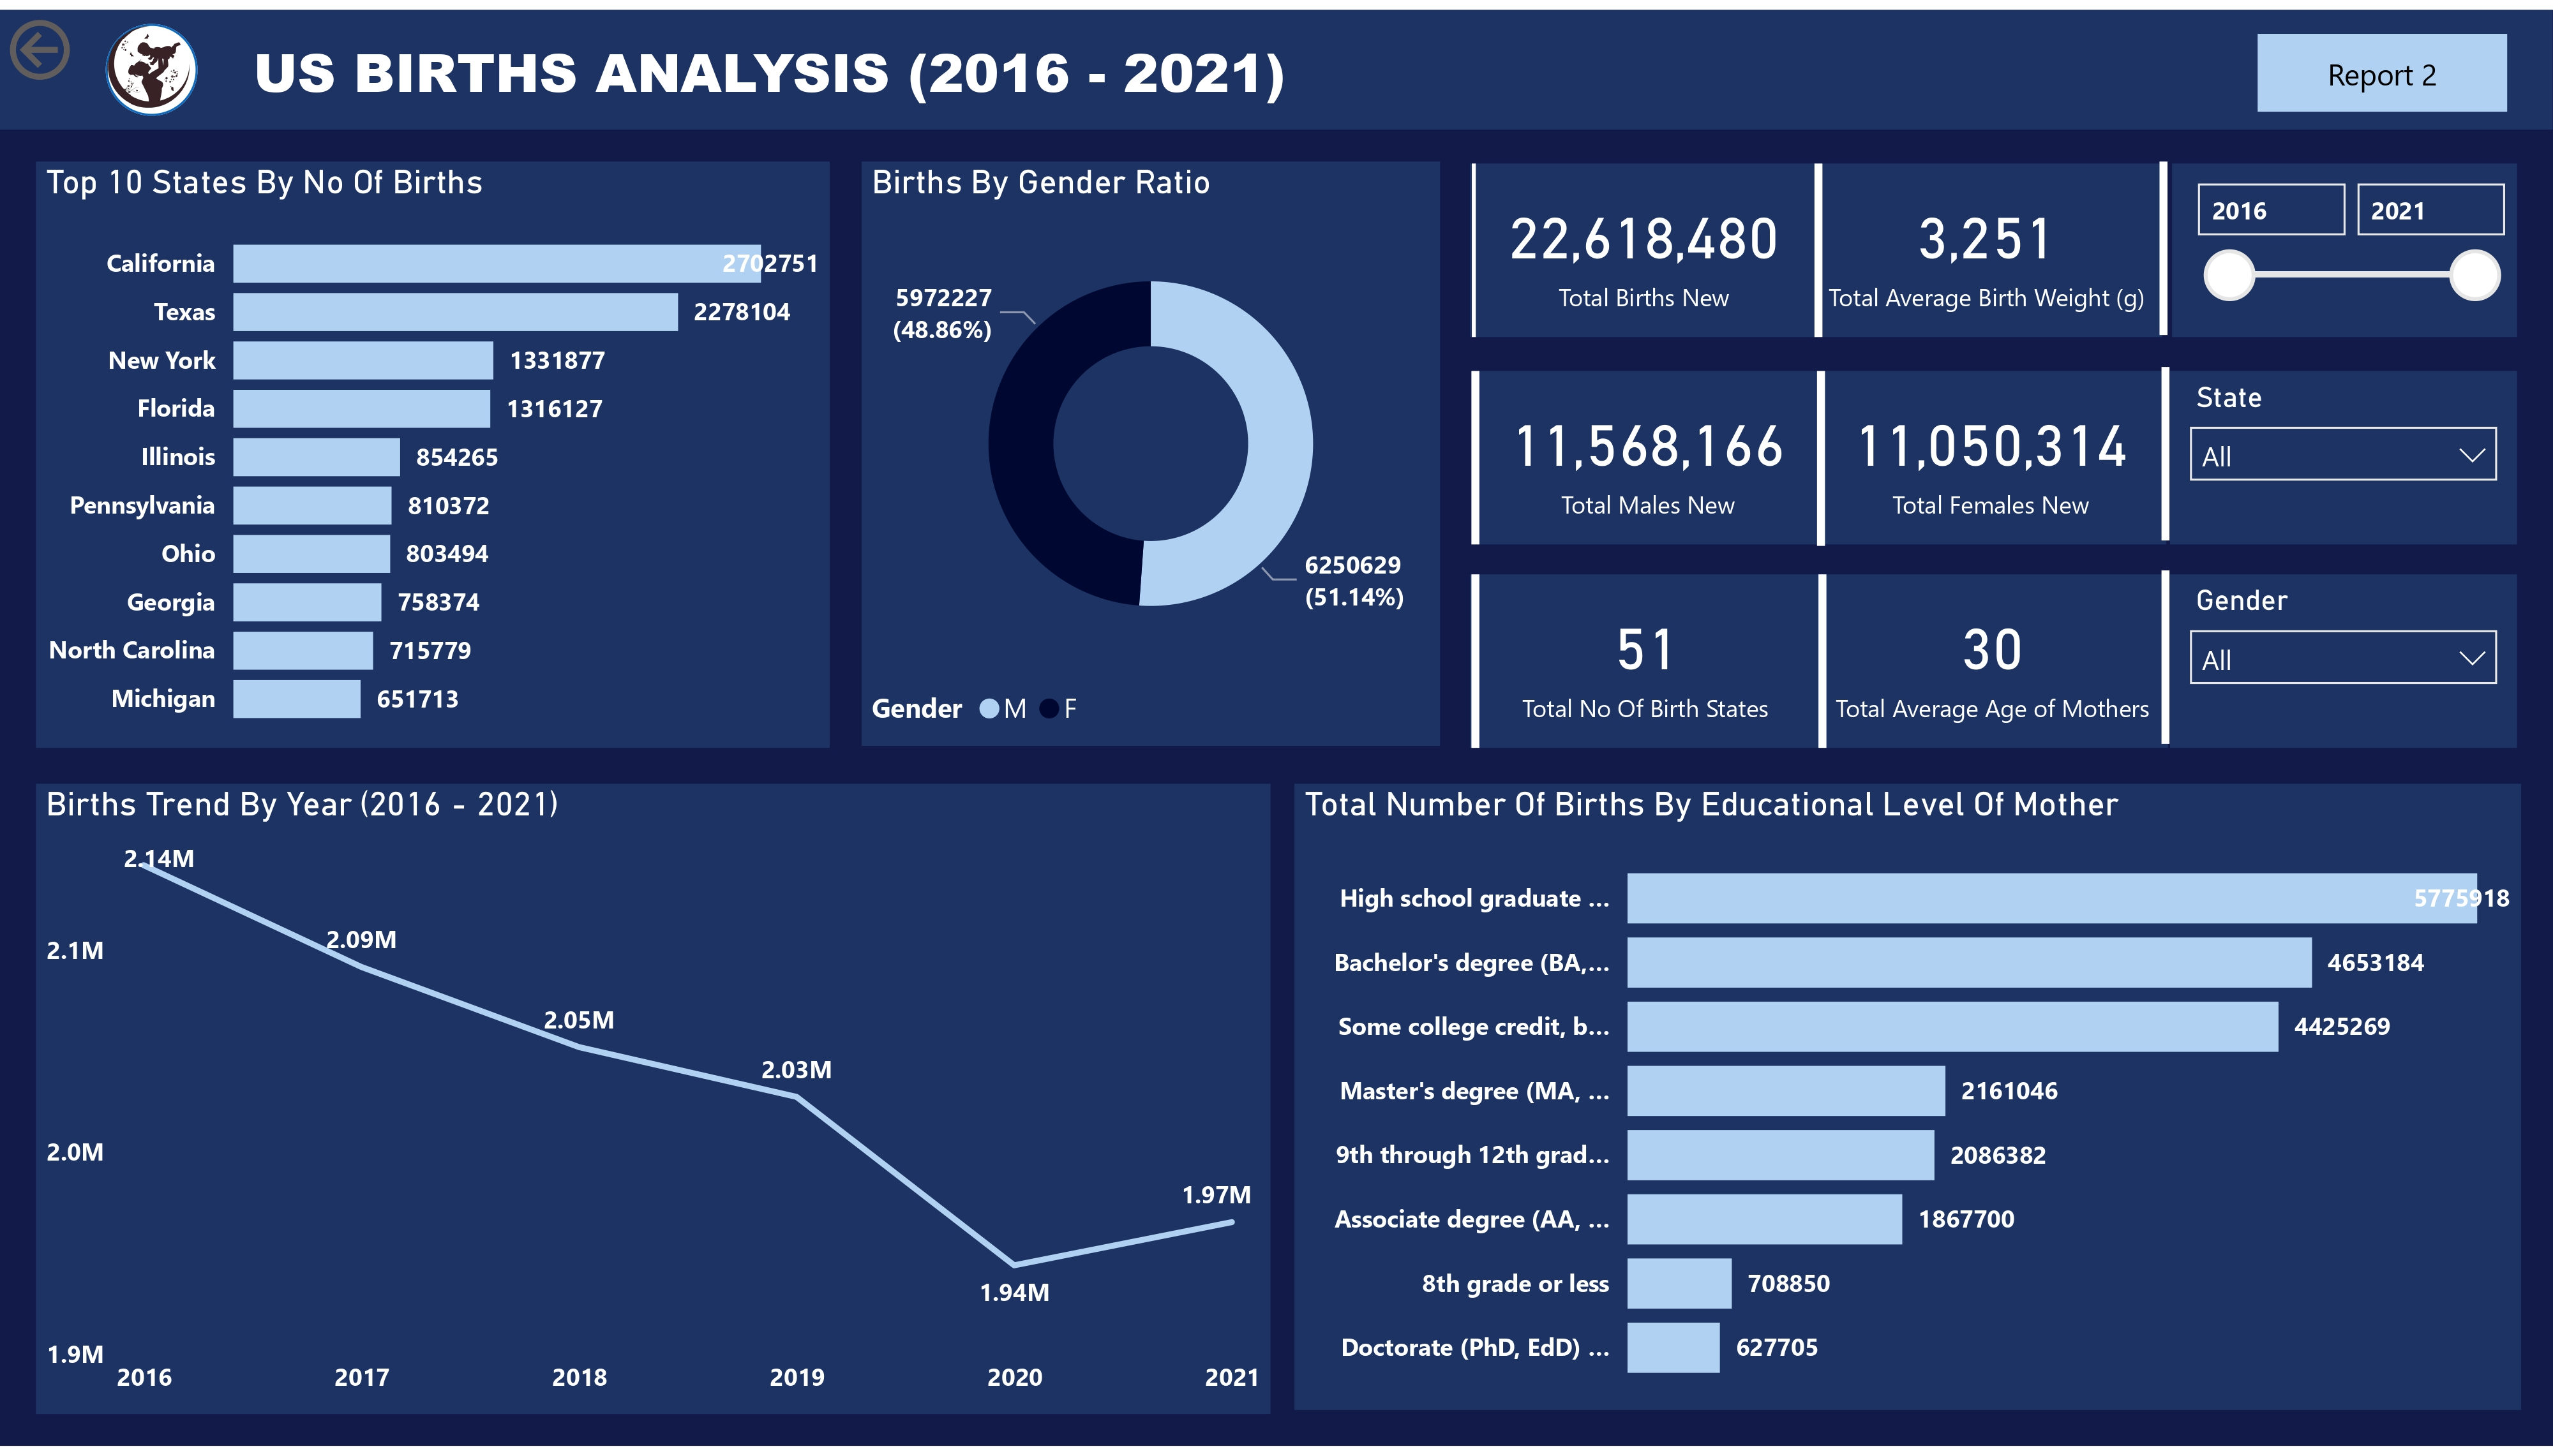

This screenshot's page, from the dashboard's own definition file:
{"tool":"powerbi","page":{"name":"REPORT 1","canvas":[1280,720],"ordinal":0},"visuals":[{"type":"shape","box":[0,0,1279.8,60],"z":0},{"type":"textbox","box":[121.7,6.6,587.4,51],"z":1000},{"type":"card","fields":{"Values":["DAX.Total Births New"]},"box":[737.1,77.3,174.4,87.2],"z":2000},{"type":"card","fields":{"Values":["DAX.Total Average Birth Weight"]},"box":[908.2,77.3,176,87.2],"z":3000},{"type":"shape","box":[1064.7,75.6,39.4,87.1],"z":4000},{"type":"slicer","fields":{"Values":["us_births_2016_2021.Year"]},"box":[1089.2,77.3,172.8,87.2],"z":5000},{"type":"card","fields":{"Values":["DAX.Total Females New"]},"box":[909.8,181,176,87.2],"z":6000},{"type":"barChart","title":"Top 10 States By No Of Births","fields":{"Category":["us_births_2016_2021.State"],"Y":["DAX.Total No Of Births"]},"box":[18.1,75.6,397.6,294.1],"z":7000},{"type":"donutChart","title":"Births By Gender Ratio","fields":{"Category":["us_births_2016_2021.Gender"],"Y":["Sum(us_births_2016_2021.Number of Births)"]},"box":[431.6,75.8,289.9,293.2],"z":8000},{"type":"lineChart","title":"Births Trend By Year (2016 - 2021)","fields":{"Category":["us_births_2016_2021.Year"],"Y":["DAX.Total No Of Births"]},"box":[18.1,388.3,618.6,315.9],"z":9000},{"type":"actionButton","box":[0,0,100,40],"z":10000},{"type":"barChart","title":"Total Number Of Births By Educational Level Of Mother","fields":{"Y":["DAX.Total No Of Births"],"Category":["us_births_2016_2021.Education Level of Mother"]},"box":[649,387.8,614.5,313.8],"z":11000},{"type":"card","fields":{"Values":["DAX.Total Males New"]},"box":[738.7,181,174.4,87.2],"z":12000},{"type":"slicer","fields":{"Values":["us_births_2016_2021.State"]},"box":[1087.5,181,174.4,87.2],"z":13000},{"type":"shape","box":[734.5,77.2,9.9,87.1],"z":14000},{"type":"shape","box":[892.9,180.6,40,87.7],"z":15000},{"type":"shape","box":[719.7,180.7,39.4,87.1],"z":16000},{"type":"shape","box":[1066.4,179.1,39.4,87.1],"z":17000},{"type":"shape","box":[892.2,77.2,39.4,87.1],"z":18000},{"type":"card","fields":{"Values":["DAX.Total Average Age of Mothers"]},"box":[911.5,283,176,87.2],"z":19000},{"type":"card","fields":{"Values":["DAX.Total No Of Birth States"]},"box":[737.1,283,176,87.2],"z":20000},{"type":"shape","box":[1066.4,281,39.4,87.1],"z":21000},{"type":"slicer","fields":{"Values":["us_births_2016_2021.Gender"]},"box":[1087.5,283,174.4,87.2],"z":22000},{"type":"shape","box":[893.9,282.6,39.4,87.1],"z":23000},{"type":"shape","box":[719.7,282.6,39.4,87.1],"z":24000},{"type":"shape","box":[52.6,6.6,46.1,46.1],"z":25000},{"type":"image","box":[49.4,3.3,51,51],"z":26000},{"type":"actionButton","box":[1131.9,11.5,125,39.5],"z":26001}]}

Visuals, with their boxes in screenshot pixels (x1, y1, x2, y2), scaled from the page's 1280x720 canvas onto the 2553x1456 screenshot:
shape: 0:0:2552:121
textbox: 243:13:1414:117
card - DAX.Total Births New: 1470:156:1818:332
card - DAX.Total Average Birth Weight: 1811:156:2162:332
shape: 2123:153:2202:329
slicer - us_births_2016_2021.Year: 2173:156:2517:332
card - DAX.Total Females New: 1815:366:2166:542
"Top 10 States By No Of Births" barChart: 36:153:829:748
"Births By Gender Ratio" donutChart: 861:153:1439:747
"Births Trend By Year (2016 - 2021)" lineChart: 36:785:1270:1424
actionButton: 0:0:199:81
"Total Number Of Births By Educational Level Of Mother" barChart: 1294:784:2520:1419
card - DAX.Total Males New: 1473:366:1821:542
slicer - us_births_2016_2021.State: 2169:366:2517:542
shape: 1465:156:1485:332
shape: 1781:365:1860:542
shape: 1435:366:1514:542
shape: 2127:362:2206:539
shape: 1779:156:1858:332
card - DAX.Total Average Age of Mothers: 1818:572:2169:748
card - DAX.Total No Of Birth States: 1470:572:1821:748
shape: 2127:568:2206:745
slicer - us_births_2016_2021.Gender: 2169:572:2517:748
shape: 1783:572:1862:748
shape: 1435:572:1514:748
shape: 105:13:197:107
image: 98:6:200:110
actionButton: 2257:23:2507:103
